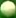white: (0, 0, 16, 18)
